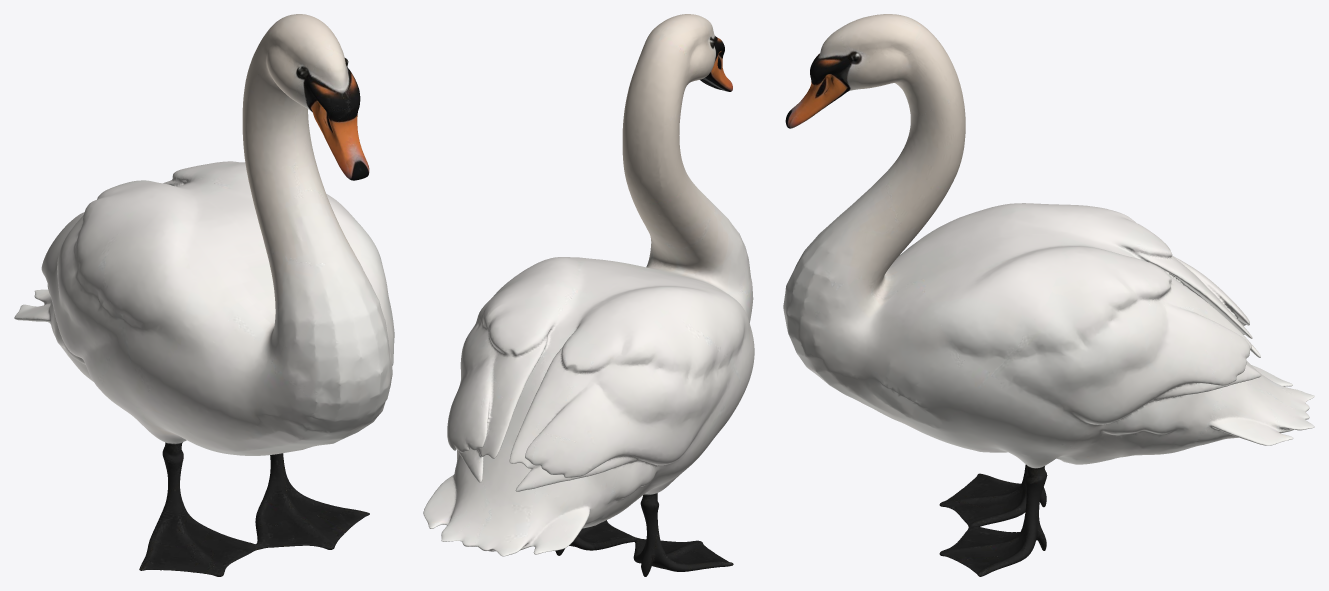
File: swan.glb
3 views of the same model, side by side, from view 1: azimuth 30°, elevation 25°; view 2: azimuth 150°, elevation 25°; view 3: azimuth 270°, elevation 25° (orthographic). The views are drawn at different scales.
Bounding box in the file's own units: 0.9179 × 1.9 × 1.78.
1 material, 1 textured.
